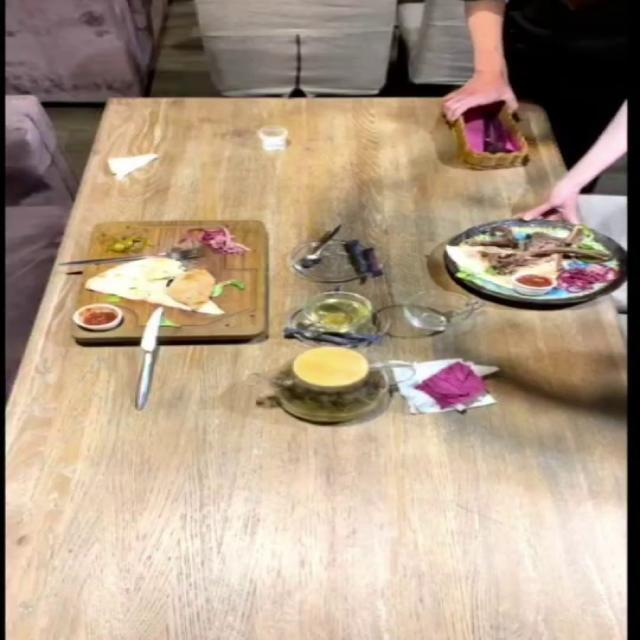meat: (67, 219, 270, 343), (437, 216, 638, 308)
tea: (268, 342, 390, 423)
